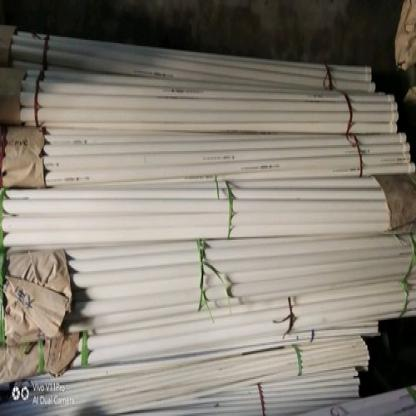PVC: (0, 23, 414, 414)
